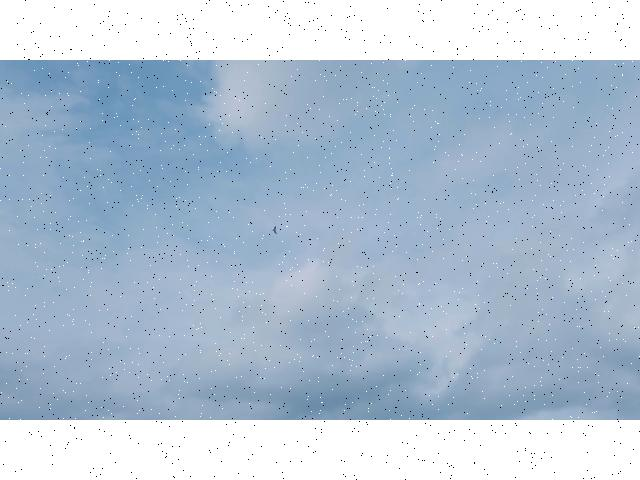Anti-Drone: (271, 225, 279, 237)
